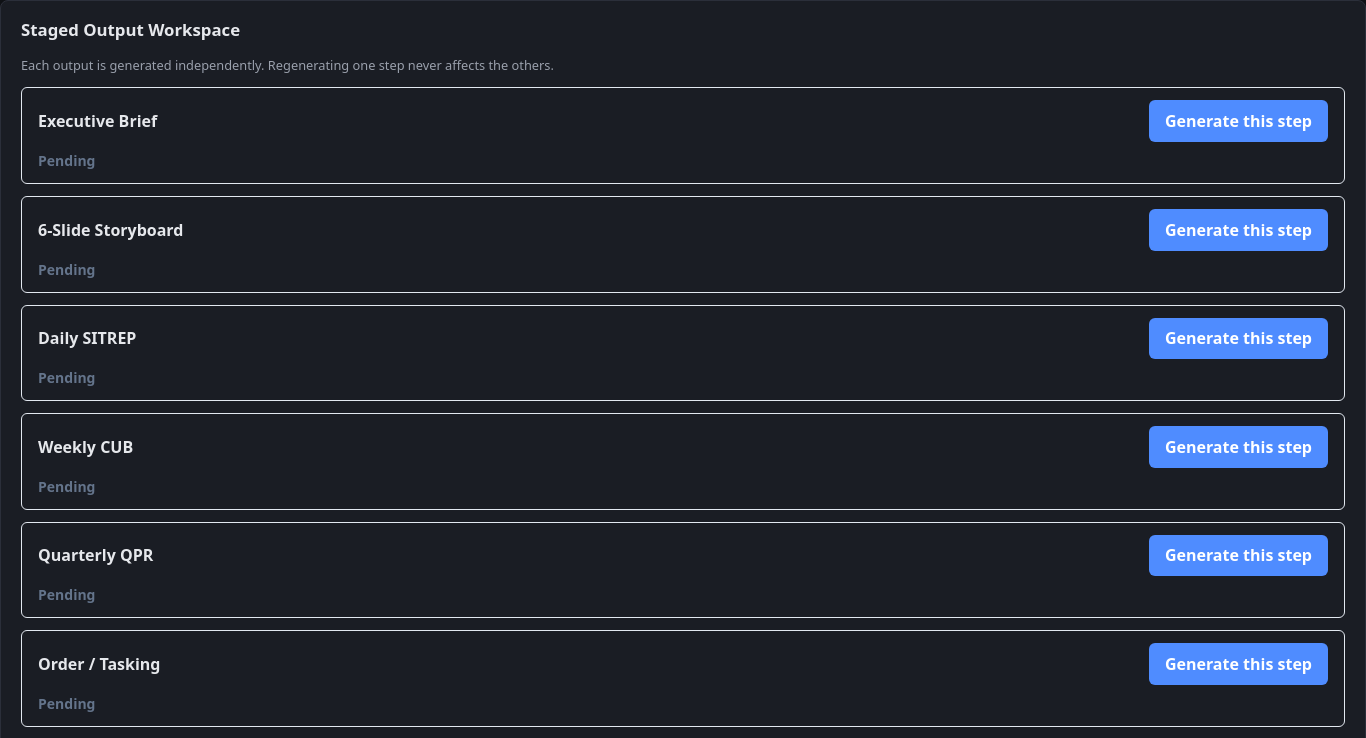
Test: StagedOutputWorkspace › renders the artifact validation result and any violations
Click the button with test id "regenerate-brief" at [1238, 121], box [1149,100,1328,142]
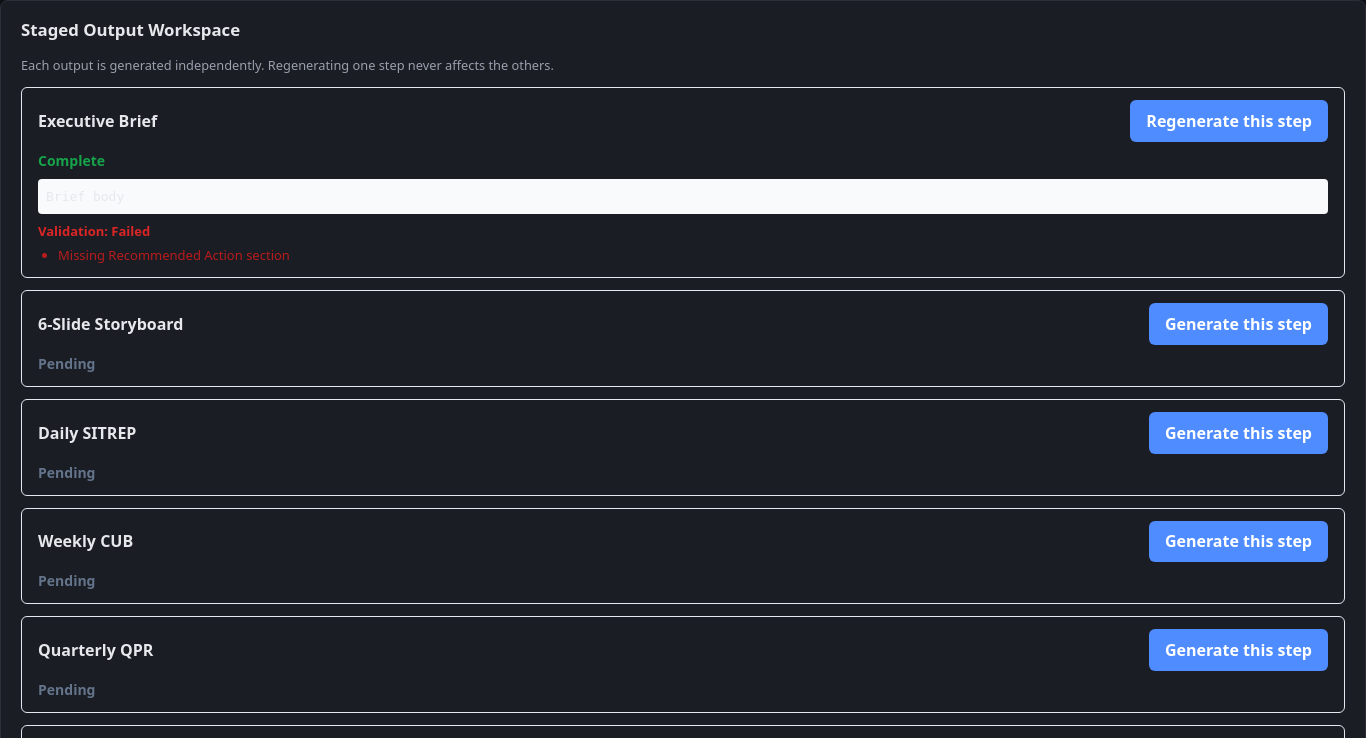
Expected: the element with test id "validation-brief" shows "Validation: Failed", [38,222,290,264]
Expected: the list with test id "violations-brief" reads "Missing Recommended Action section", [58,246,290,264]
